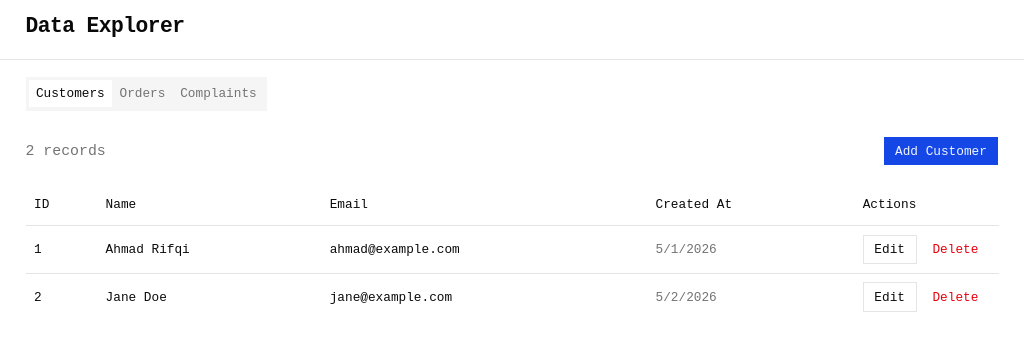
DataPage tab switching › switches to Orders tab and shows order data including processing status
Click the tab "Orders": (142, 94) [112, 80, 173, 107]
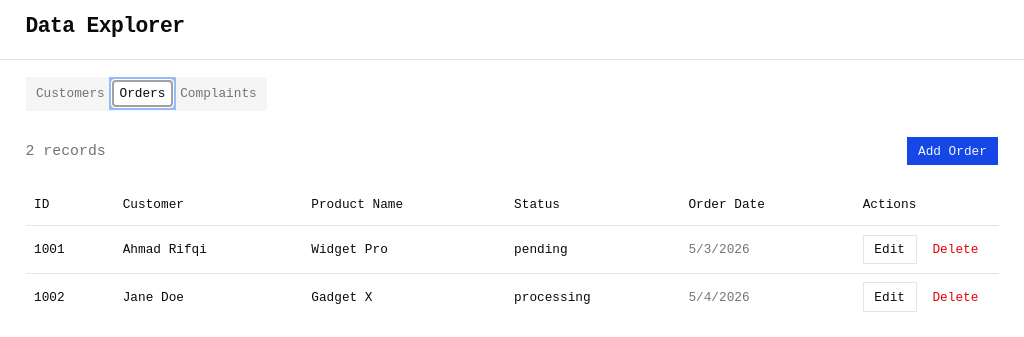
Now the text "Widget Pro" is shown, box [303, 226, 506, 273]
Now the text "pending" is shown, box [506, 226, 680, 273]
Now the text "Gadget X" is shown, box [303, 273, 506, 320]
